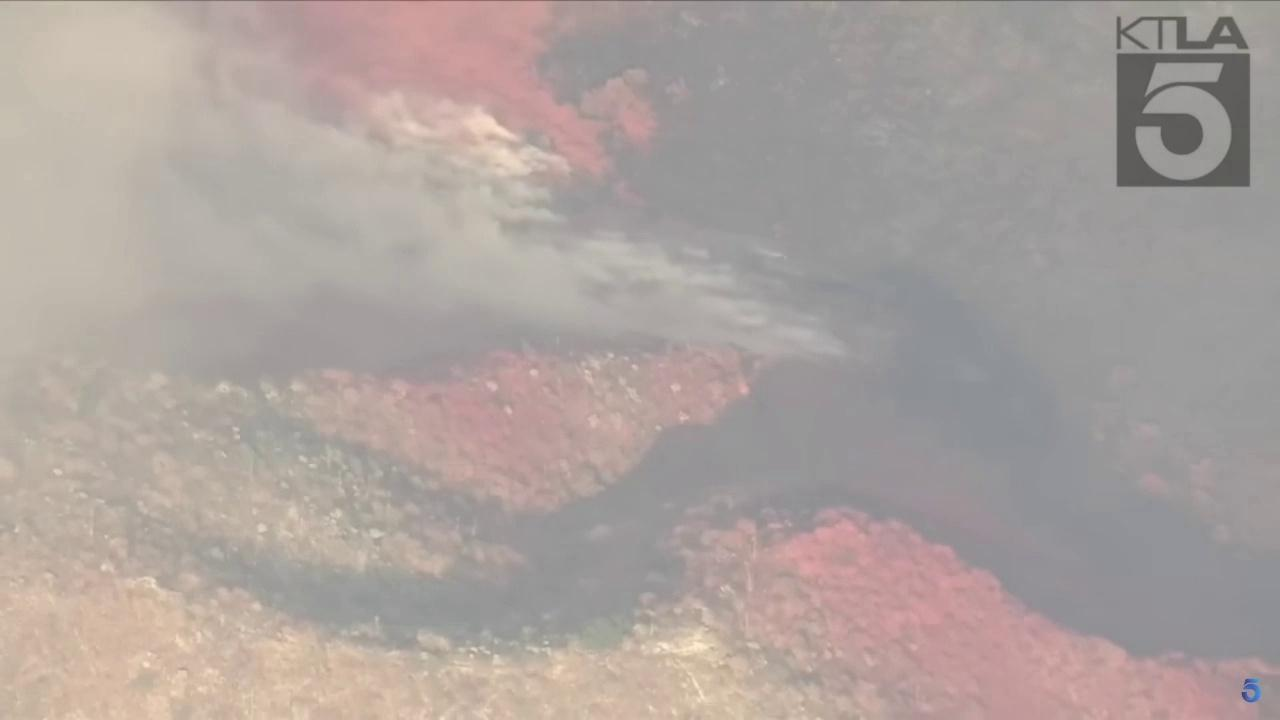smoke: (0, 0, 851, 366)
